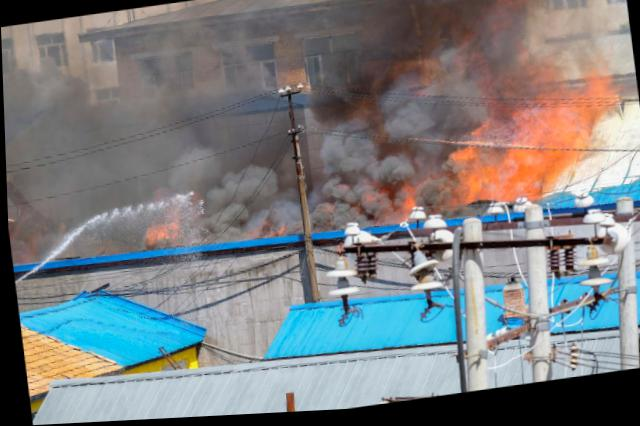fire: (451, 146, 538, 212), (514, 104, 588, 158), (582, 78, 621, 121), (534, 153, 573, 179)
